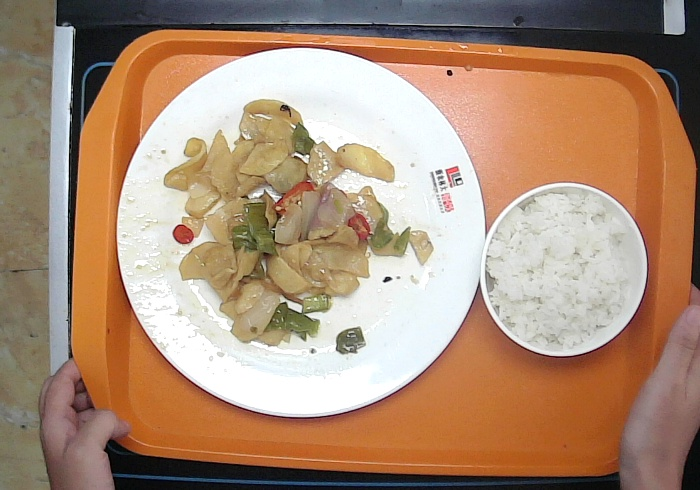ZNLD-Da_Yuan_Pan: (113, 46, 486, 418)
ZNLD-Fan_Wan: (478, 180, 650, 359)
